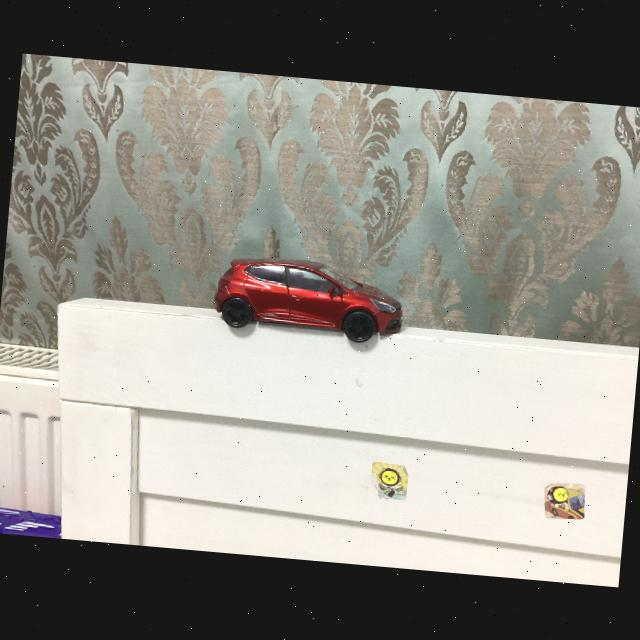Dogru_Jant: (223, 298, 250, 324), (347, 313, 372, 338)
